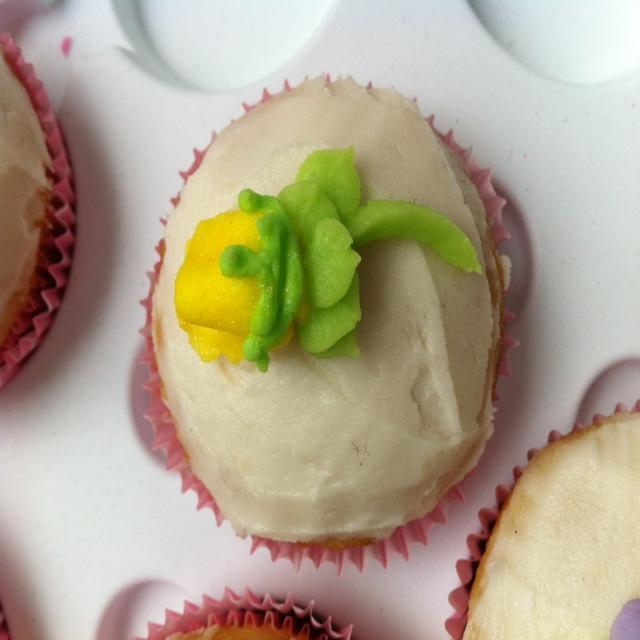Muffin: (134, 68, 516, 578), (444, 395, 640, 639), (0, 27, 75, 386), (128, 587, 354, 639)
